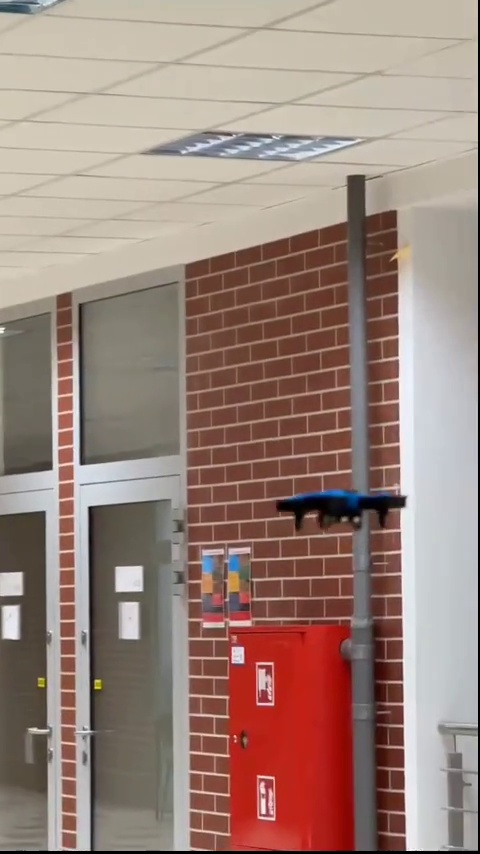drone: (271, 490, 405, 534)
